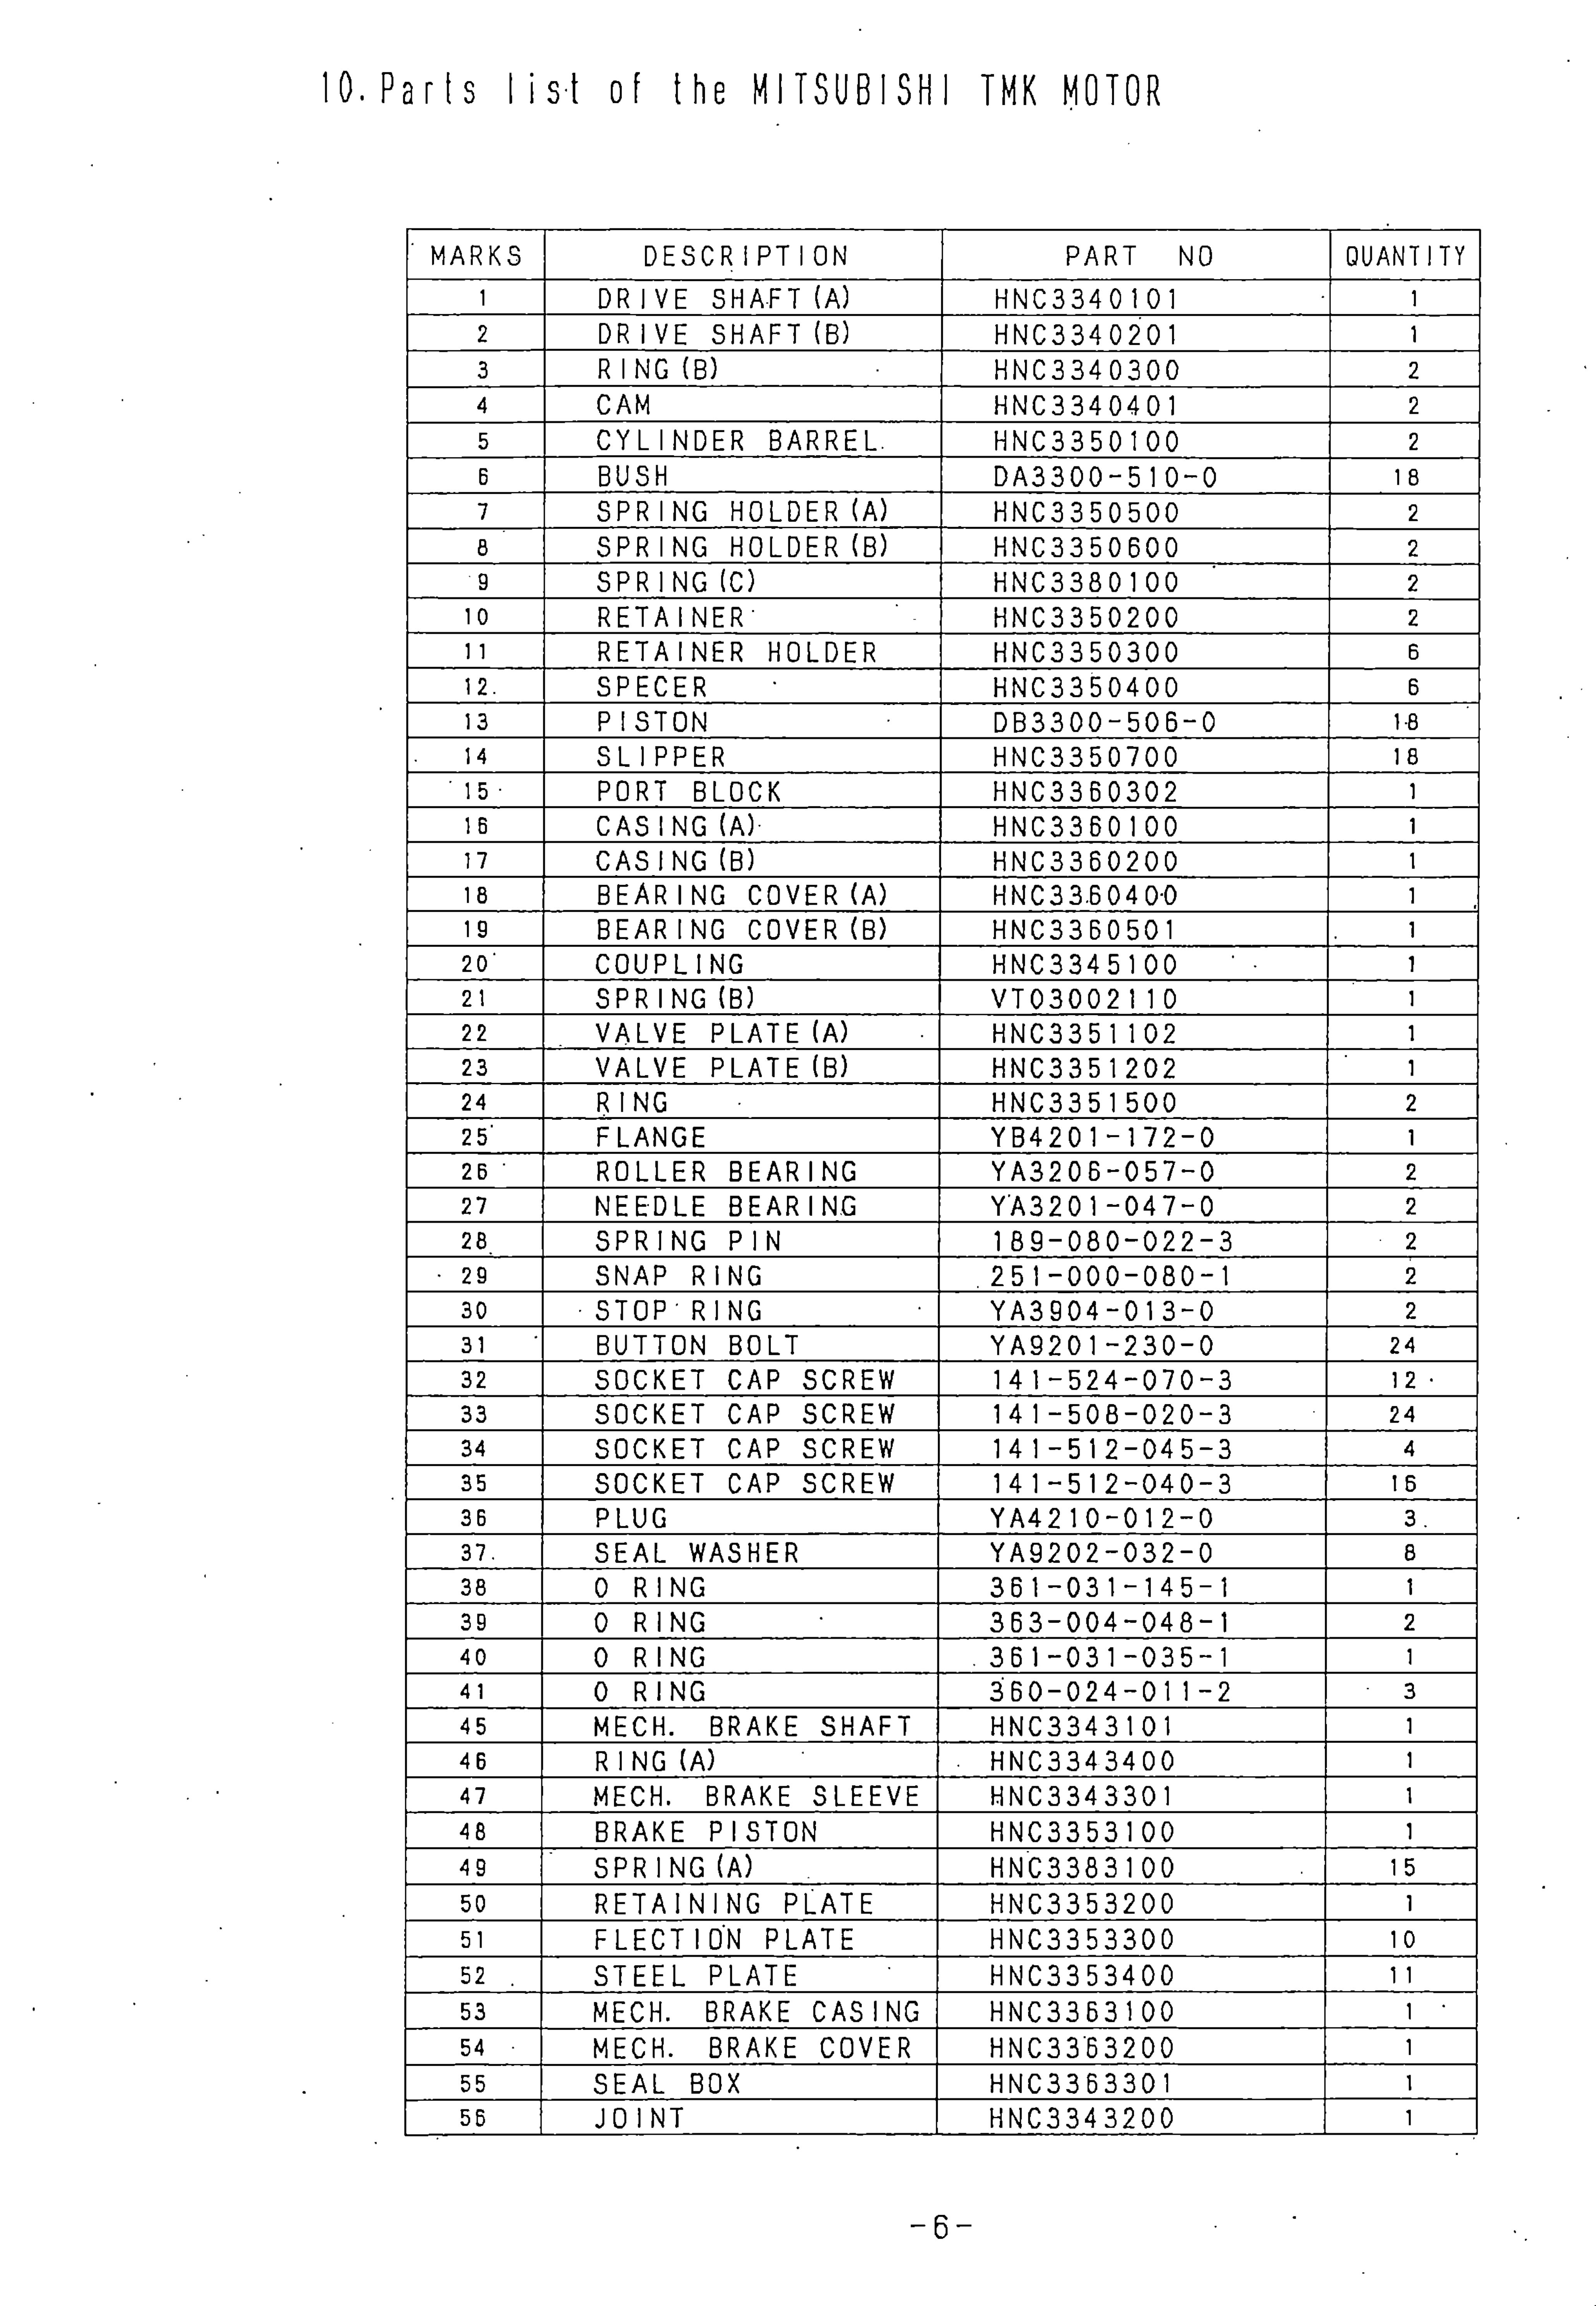Table: (387, 217, 1501, 2145)
